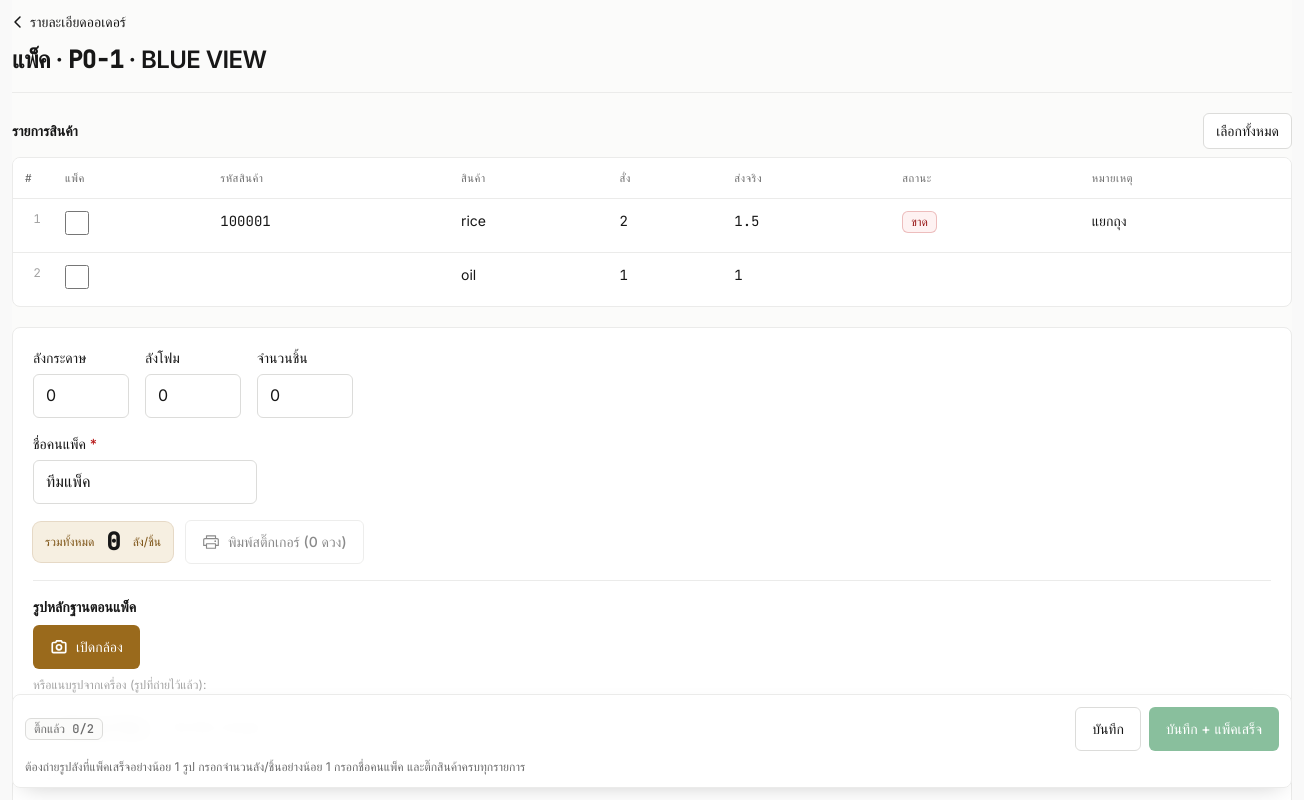
the "เลือกทั้งหมด"/"ล้างทั้งหมด" toggle checks or clears every item at once
Expected: the text "rice" is shown, [449,198,607,252]
Click the button "เลือกทั้งหมด" at (1248, 131), box [1203,113,1292,149]
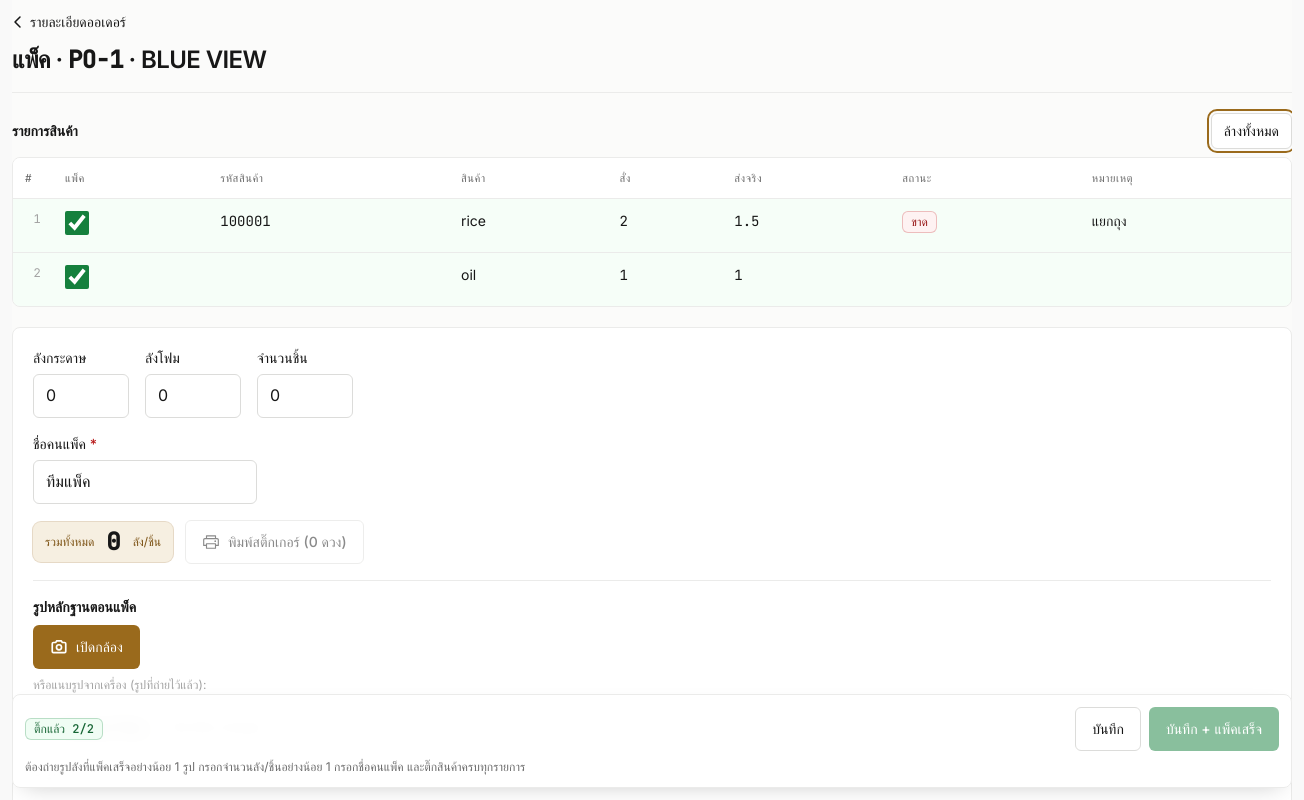
Now the button "ล้างทั้งหมด" is shown
Click the button "ล้างทั้งหมด" at (1251, 131), box [1211,113,1292,149]
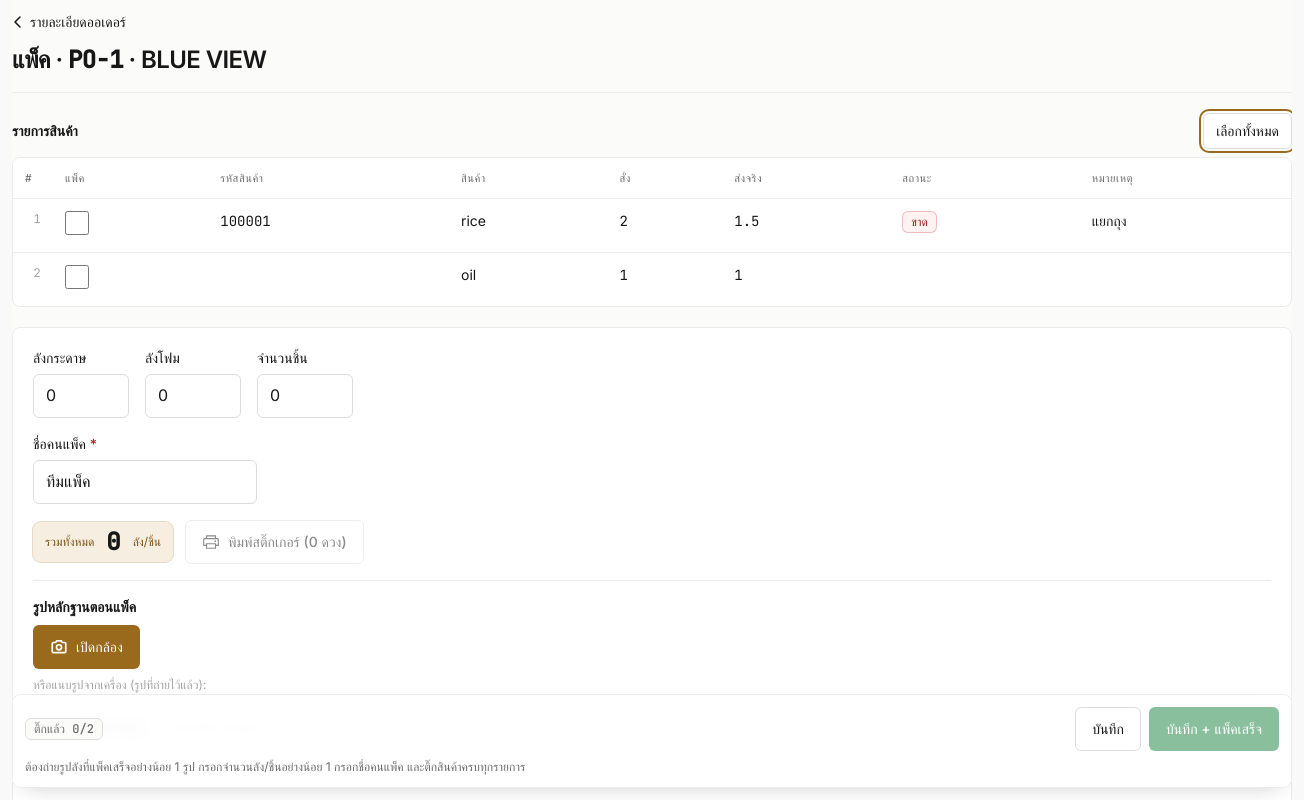
Now the button "เลือกทั้งหมด" is shown, box [1203,113,1292,149]
